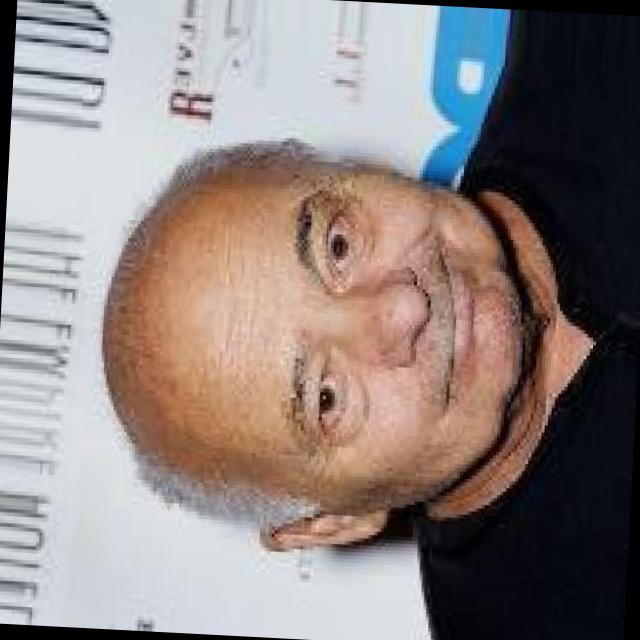bareface: (120, 165, 532, 508)
